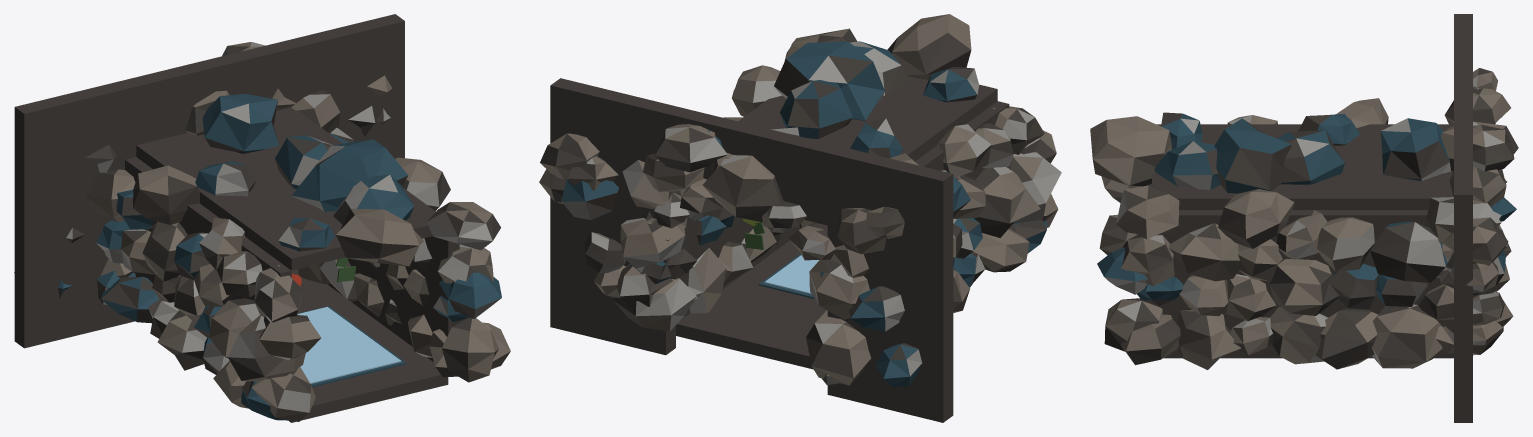
File: Cave_Flooded_Entry.fbx
3 renders of one model, left to right at view 1: azimuth 30°, elevation 25°; view 2: azimuth 150°, elevation 25°; view 3: azimuth 270°, elevation 25°, orthographic. The views are drawn at different scales.
Visible parts, largest first — view 1: Decor, Plate1, Ceiling1, Plate2, Plate3, Floor1, DecorGlass, Wall1, Wall2; view 2: Decor, Plate1, Plate2, Floor1, Plate3, Ceiling1, Wall1, Wall2, DecorGlass; view 3: Decor, Ceiling1, Plate2, Wall1, Plate3, Plate1, Floor1.
Part boxes in pixels (x1,y1,x2,y2): Decor: (14, 42, 510, 421); Plate1: (14, 79, 136, 348); Ceiling1: (136, 107, 435, 270); Plate2: (284, 14, 404, 158); Plate3: (127, 41, 292, 145); Floor1: (289, 269, 448, 422); DecorGlass: (297, 307, 401, 383); Wall1: (327, 236, 459, 362); Wall2: (125, 157, 291, 300); Decor: (539, 14, 1061, 386); Plate1: (827, 146, 953, 422); Plate2: (550, 78, 675, 355); Floor1: (676, 223, 827, 369); Plate3: (666, 106, 837, 225); Ceiling1: (738, 76, 997, 161); Wall1: (679, 215, 801, 320); Wall2: (915, 101, 1009, 179); DecorGlass: (764, 255, 819, 294); Decor: (1090, 68, 1518, 369); Ceiling1: (1152, 124, 1453, 209); Plate2: (1454, 141, 1472, 422); Wall1: (1153, 210, 1443, 352); Plate3: (1454, 67, 1472, 141); Plate1: (1454, 14, 1472, 67); Floor1: (1163, 352, 1453, 358).
Size of the model in its own units: 34.46 by 20 by 34.05.
